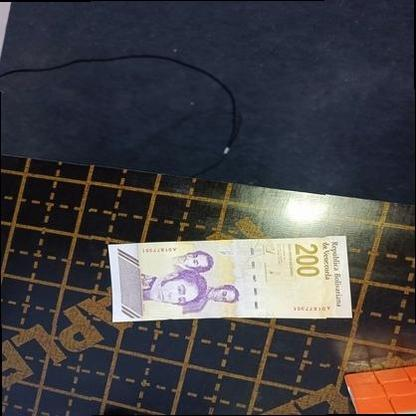two_hundred-front-vef: (108, 235, 353, 322)
